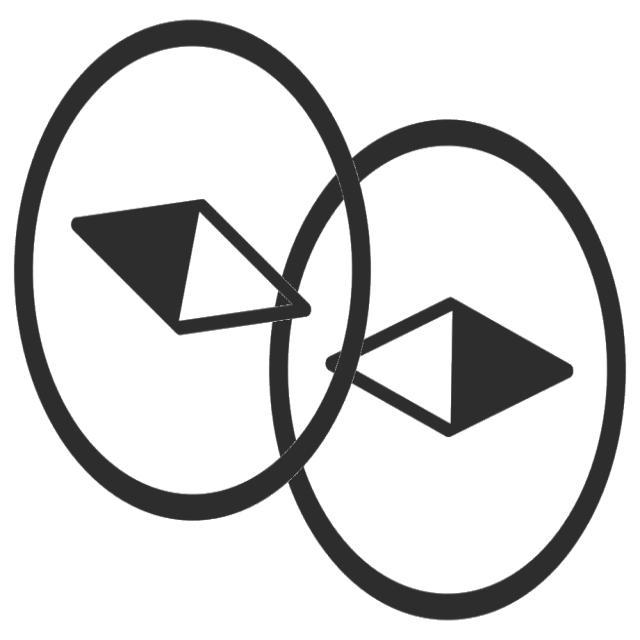compass: (6, 13, 392, 536), (251, 111, 633, 636)
